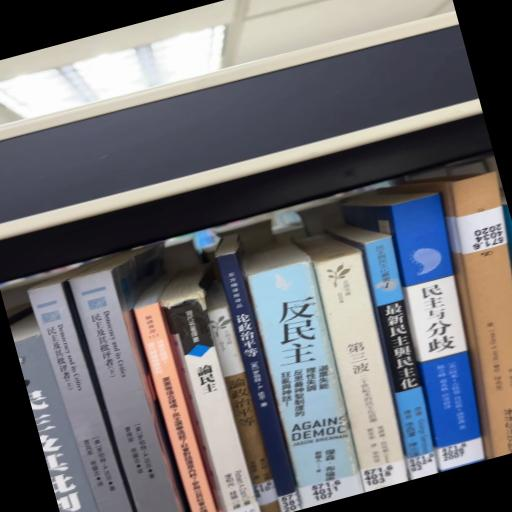reverse: (387, 173, 512, 460)
